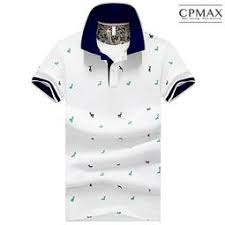S_polo shirt: (32, 9, 190, 223)
